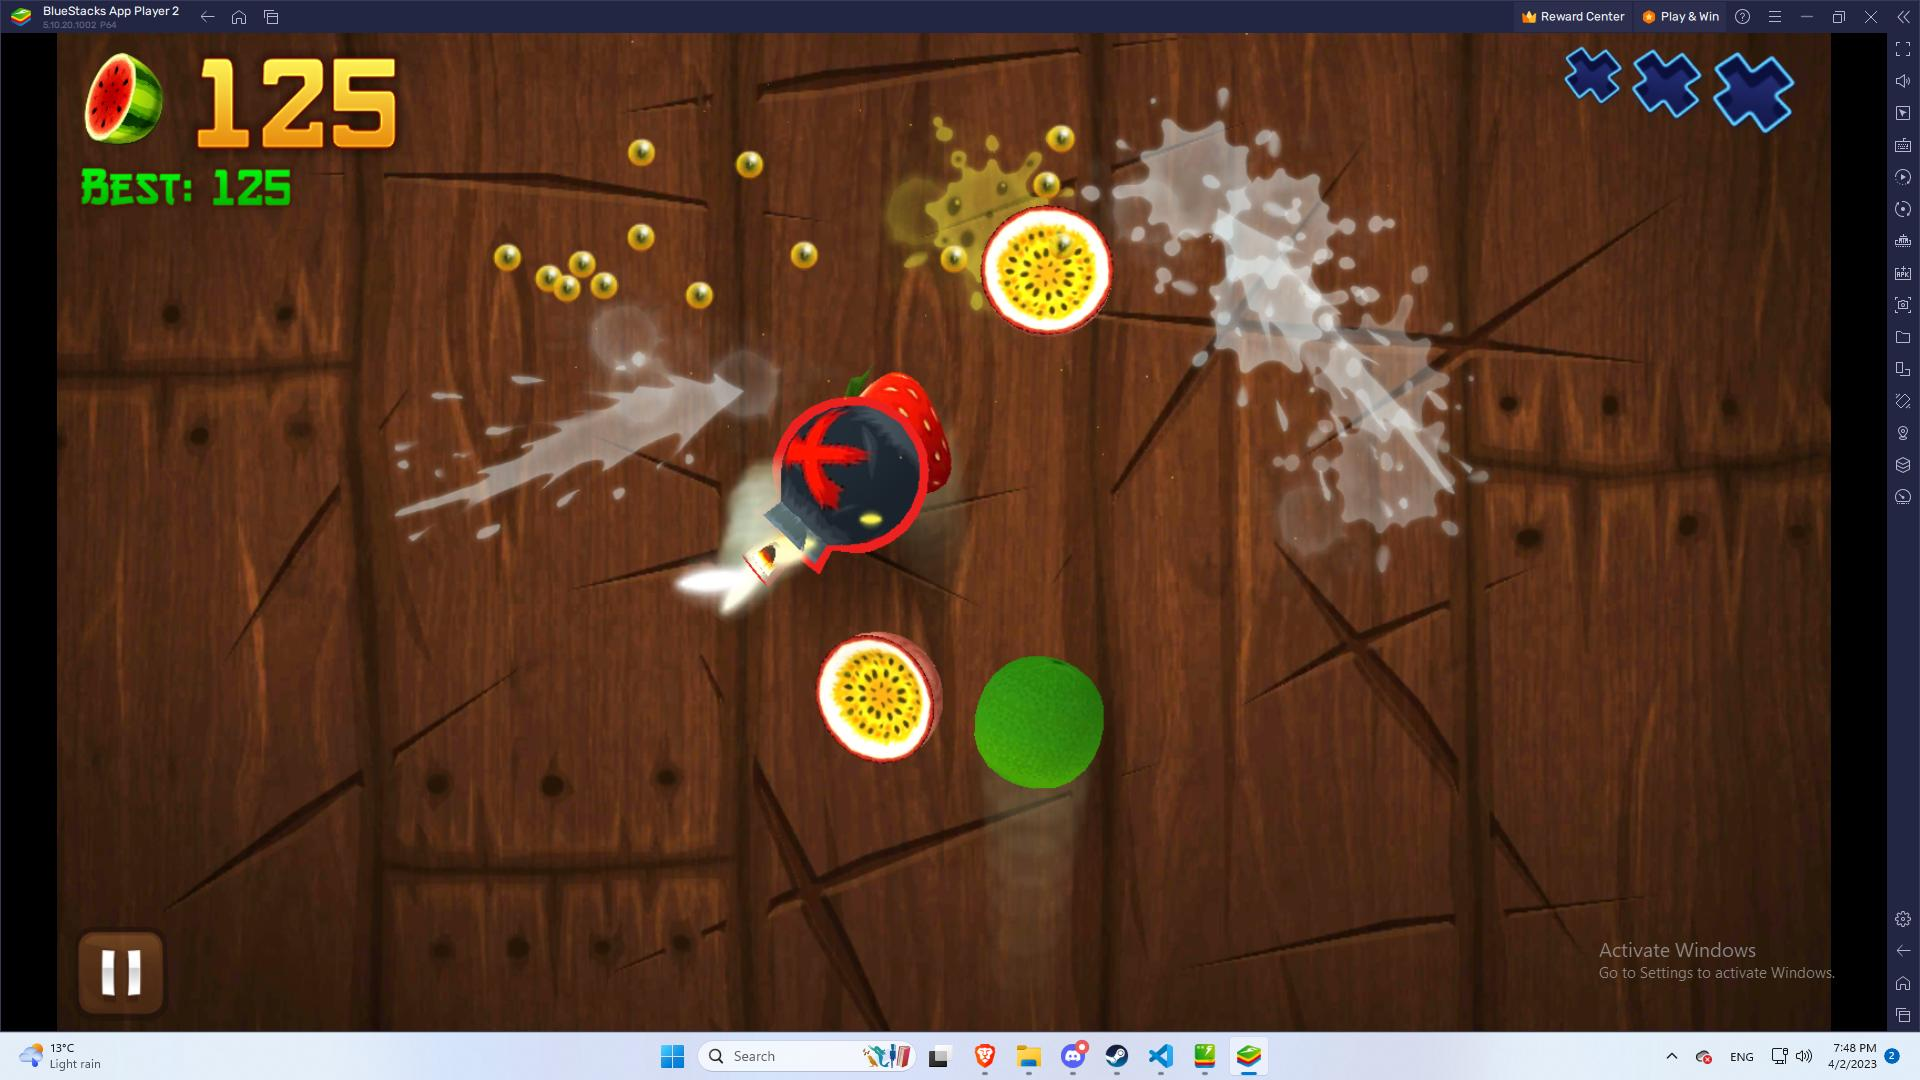bomb: (742, 425, 894, 575)
fruit: (959, 618, 1131, 818)
